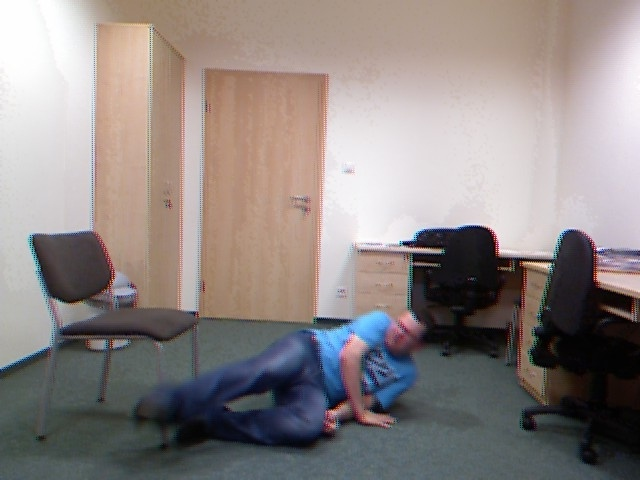fall: (118, 300, 439, 450)
